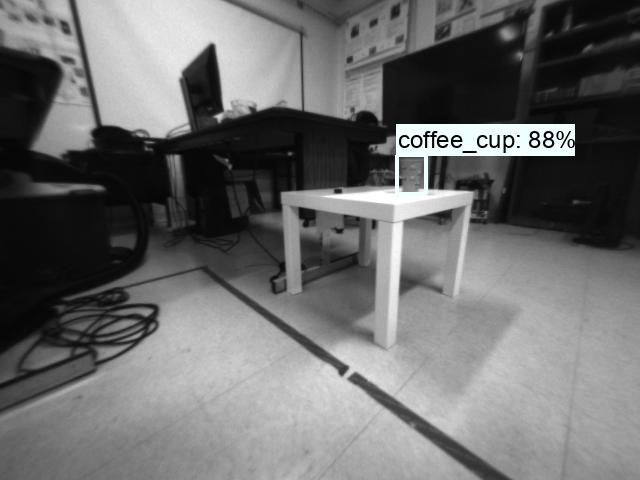coffee_cup: (397, 157, 426, 194)
